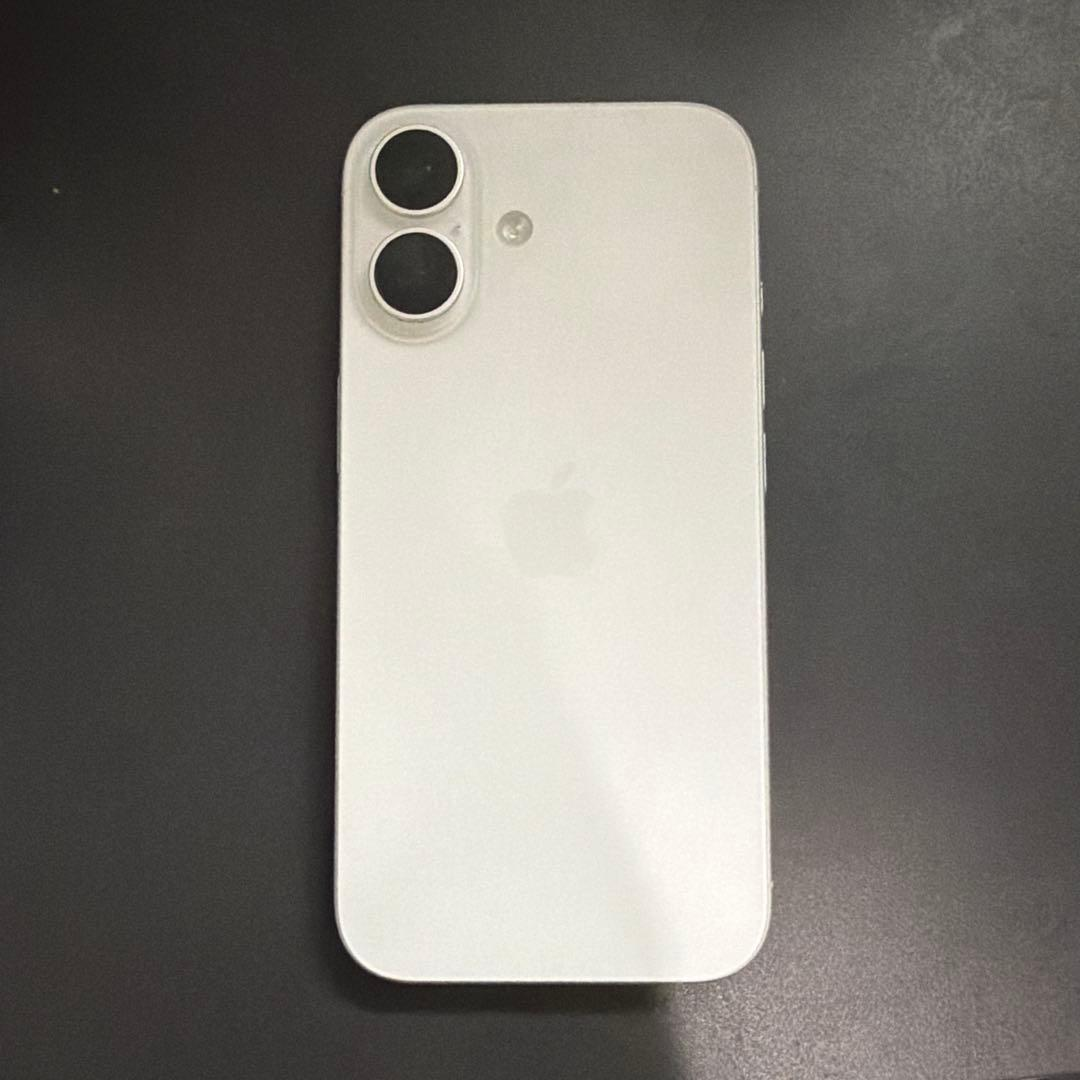iphone16_white: (322, 82, 787, 1003), (353, 111, 539, 341)
